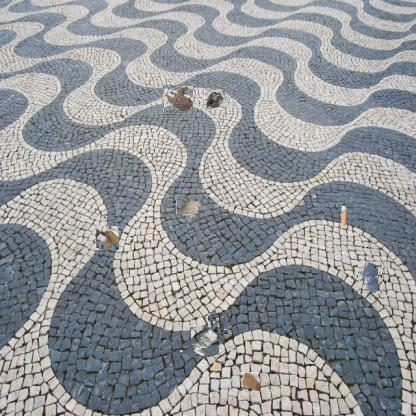dirty: (191, 327, 219, 357), (95, 226, 119, 250), (204, 89, 226, 110), (179, 196, 199, 217), (210, 312, 230, 332), (240, 372, 260, 391), (339, 202, 349, 228)
liquid: (163, 85, 193, 111), (358, 262, 382, 294)
